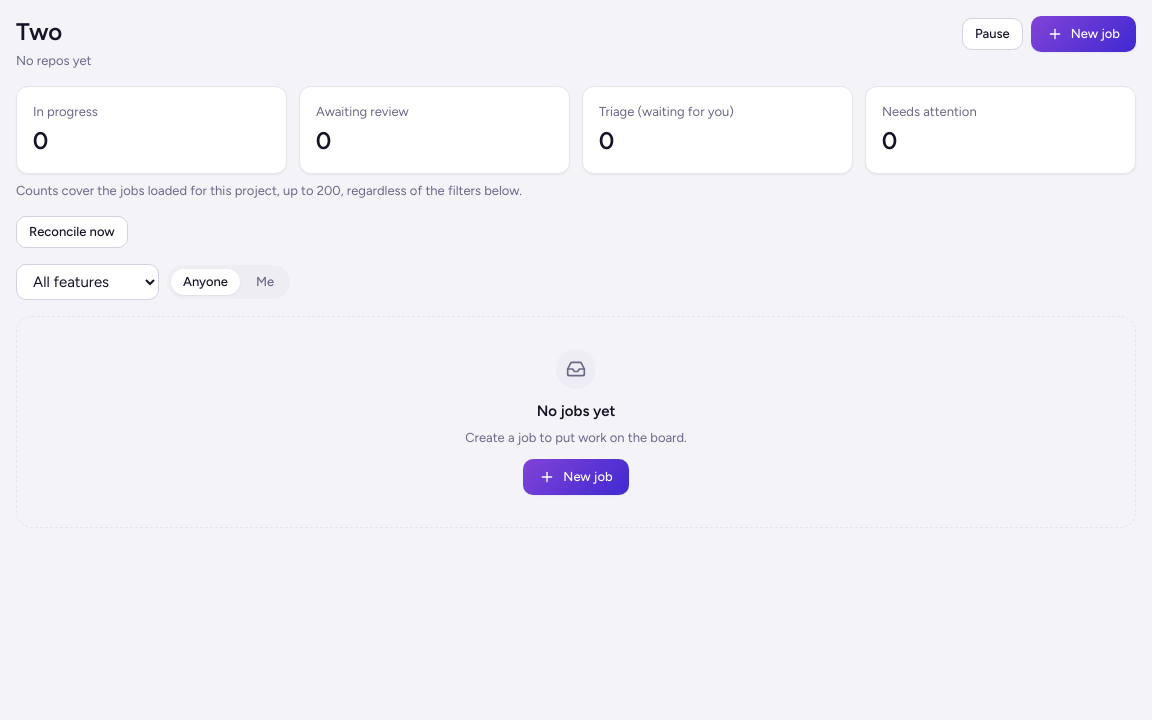
Dashboard stats › shows the empty board with a New job action that opens the dialog
Click the button "New job" below "Create a job to put work on the board." at [576, 477], box [523, 459, 629, 495]
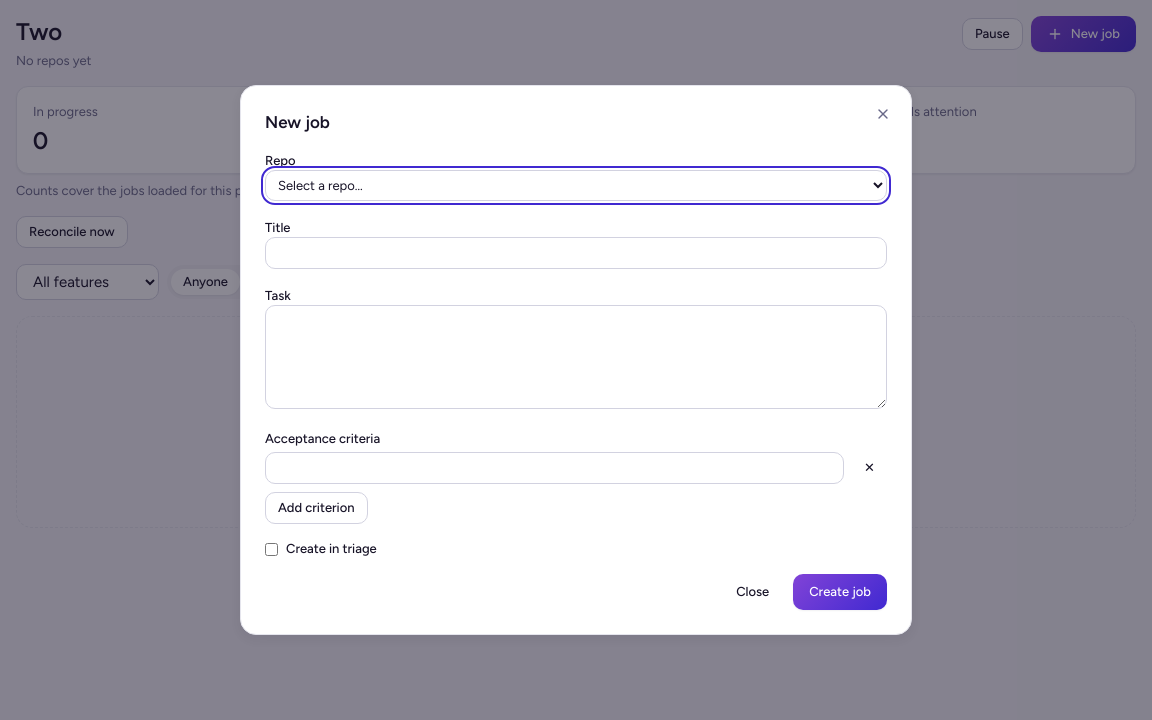
Expected: the dialog is shown, [240, 85, 912, 635]
